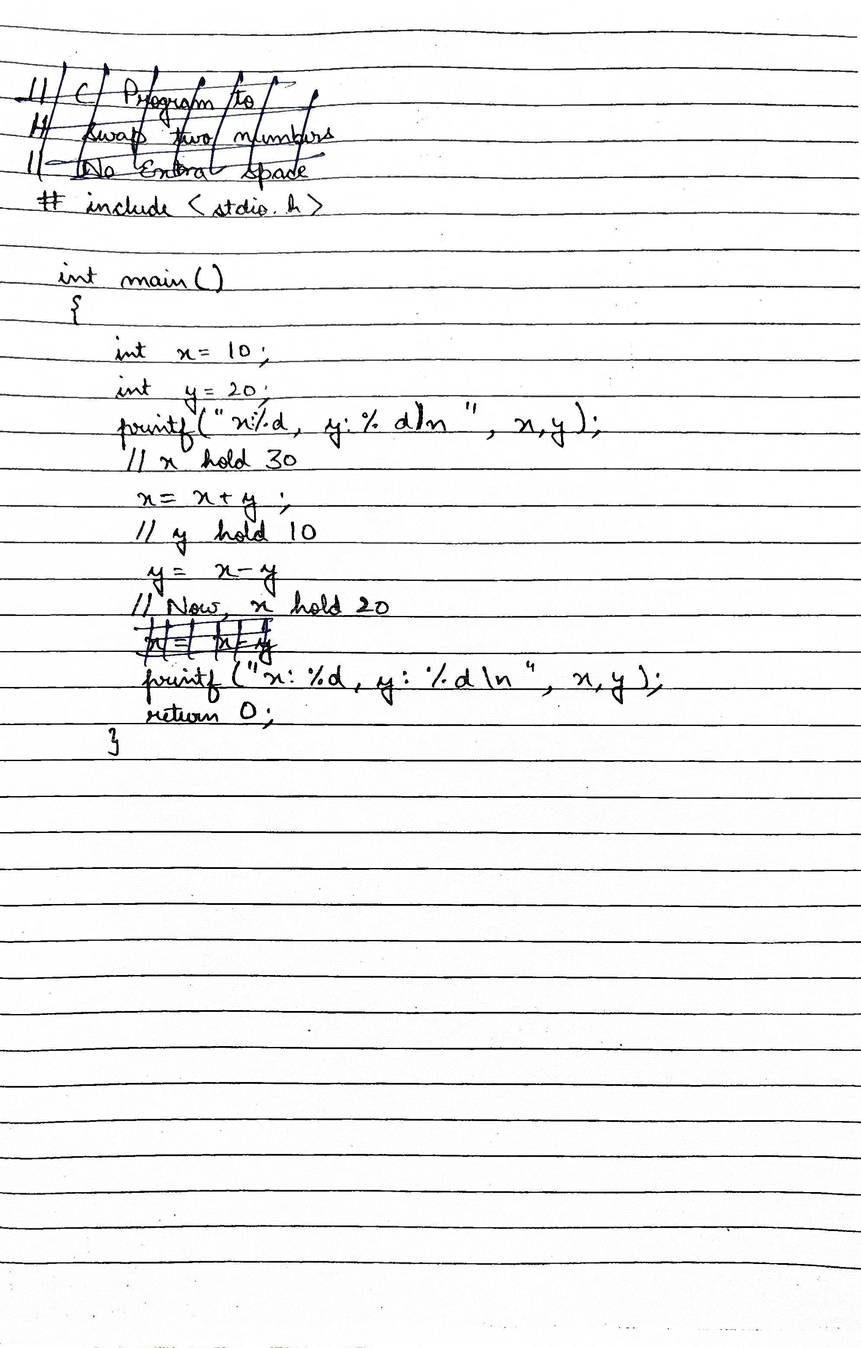cuttings: (10, 57, 339, 194), (131, 615, 279, 668)
